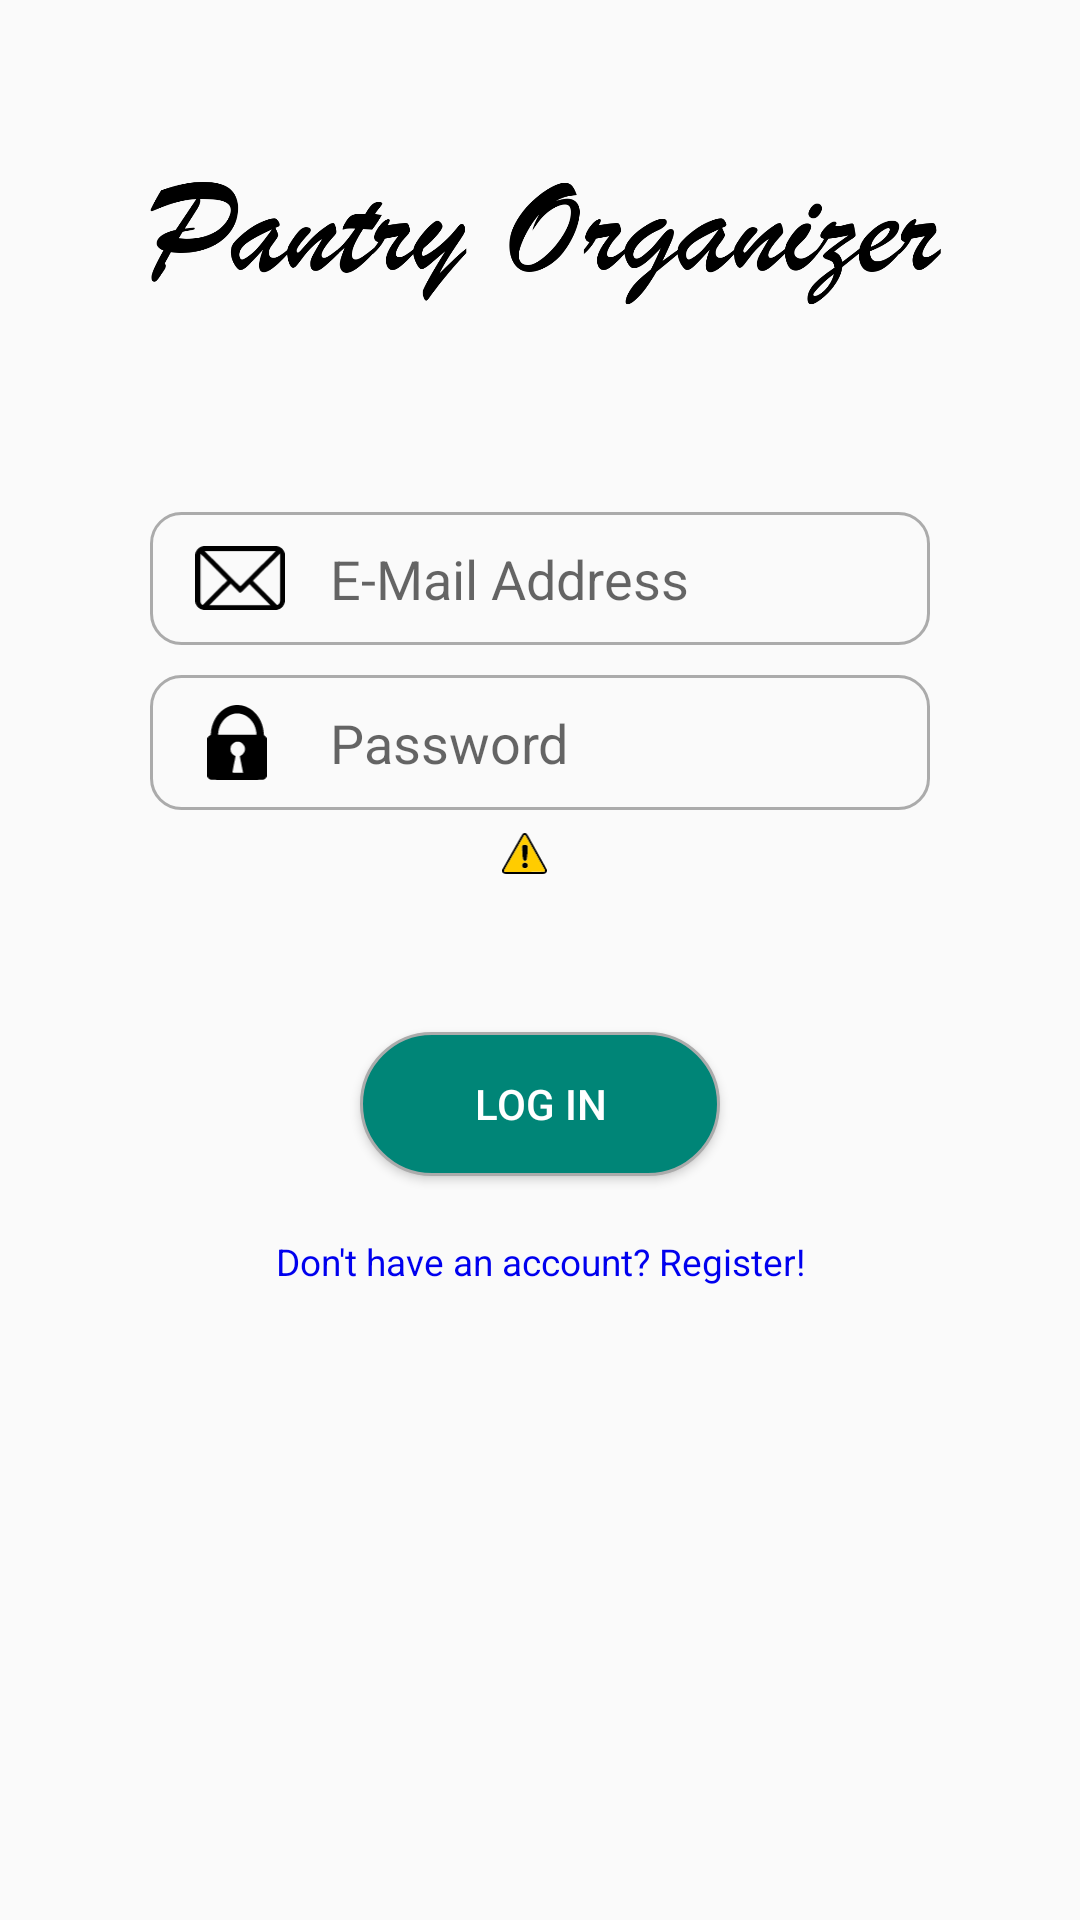

Locate icon controls on the screen. Image size 1080*1920, boxes as (x1, y1, x2, y2).
warning: (502, 833, 547, 874)
